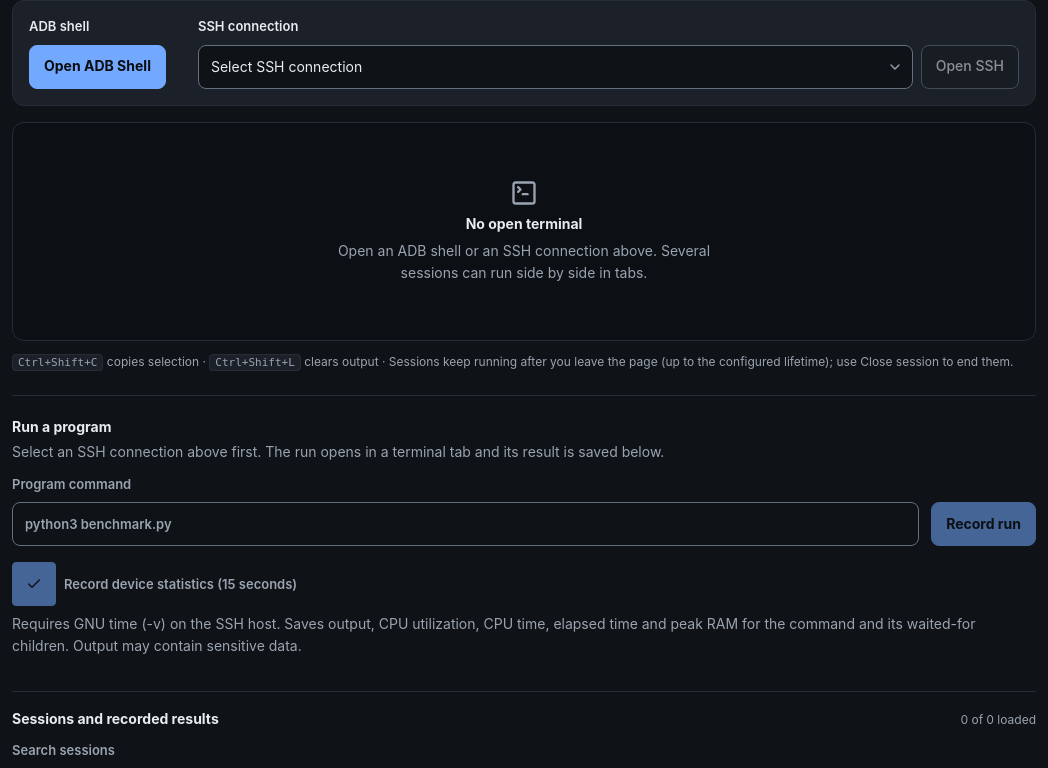
Test: starts only on request and detaches terminal without terminating backend session
Click the button "Open ADB Shell".
click(97, 66)  # box [29,44,166,88]
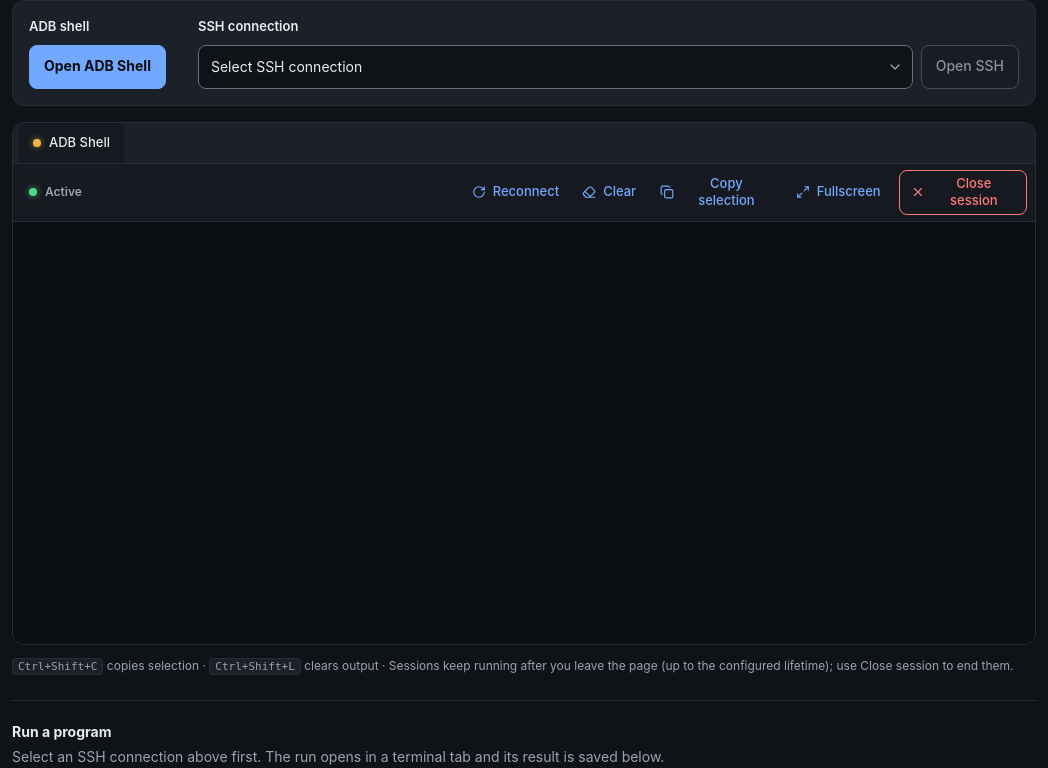
Expected: the text "active" is shown, [29,184,82,200]
